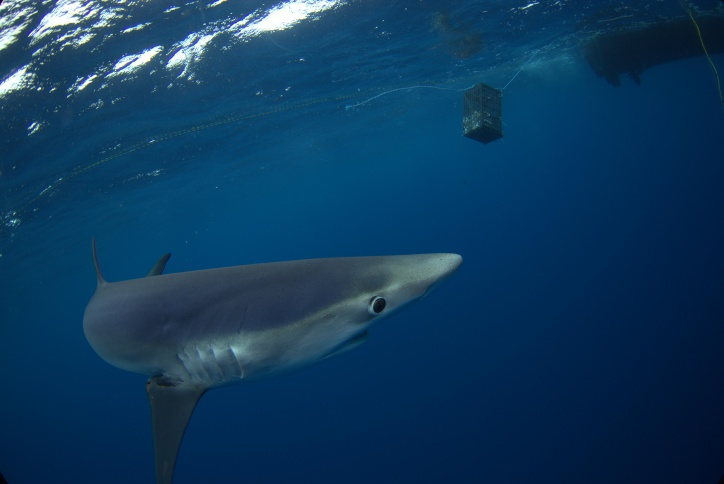Azul: (62, 212, 477, 484)
